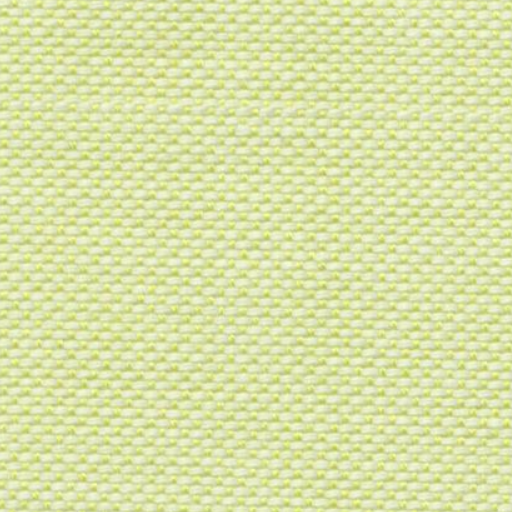TuoSha: (22, 74, 488, 148)
